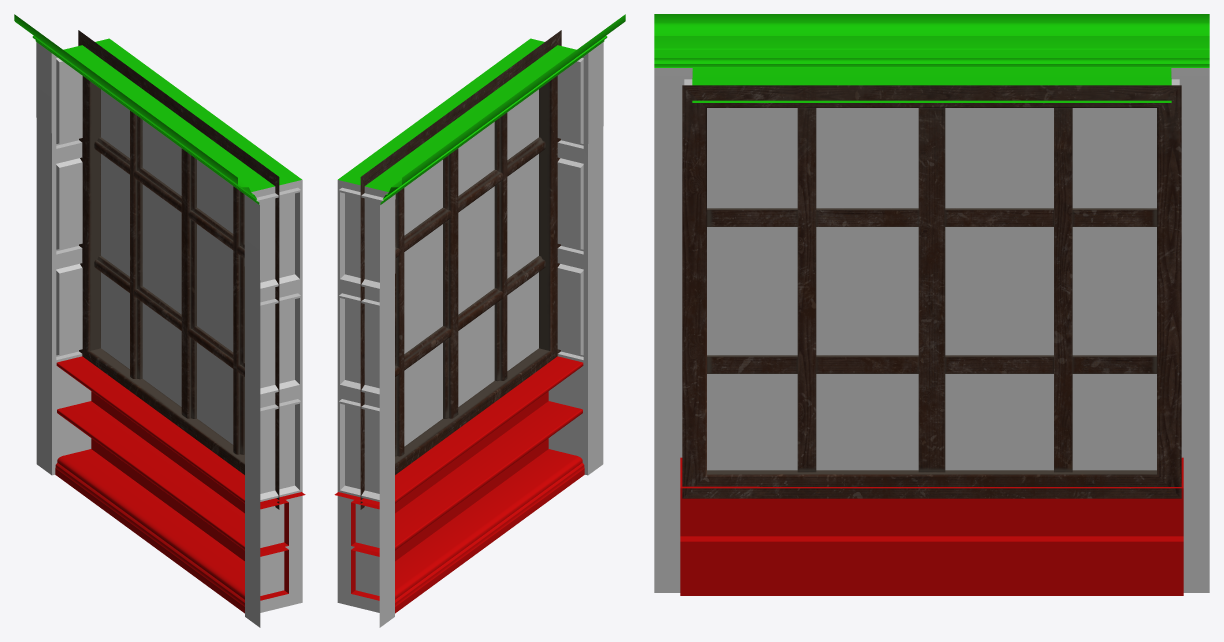
The model's file is SM_window_arch_02.fbx.
The picture shows the model from 3 angles, left to right: view 1: azimuth 30°, elevation 25°; view 2: azimuth 150°, elevation 25°; view 3: azimuth 270°, elevation 25°; orthographic projection. The views are drawn at different scales.
Visible parts, largest first — view 1: SM_window_arch_02; view 2: SM_window_arch_02; view 3: SM_window_arch_02.
Part boxes in pixels (bbox=[...]): SM_window_arch_02: bbox=[14, 14, 305, 627]; SM_window_arch_02: bbox=[334, 14, 625, 627]; SM_window_arch_02: bbox=[654, 14, 1209, 595].
Size of the model in its own units: 67.05 by 325 by 366.
